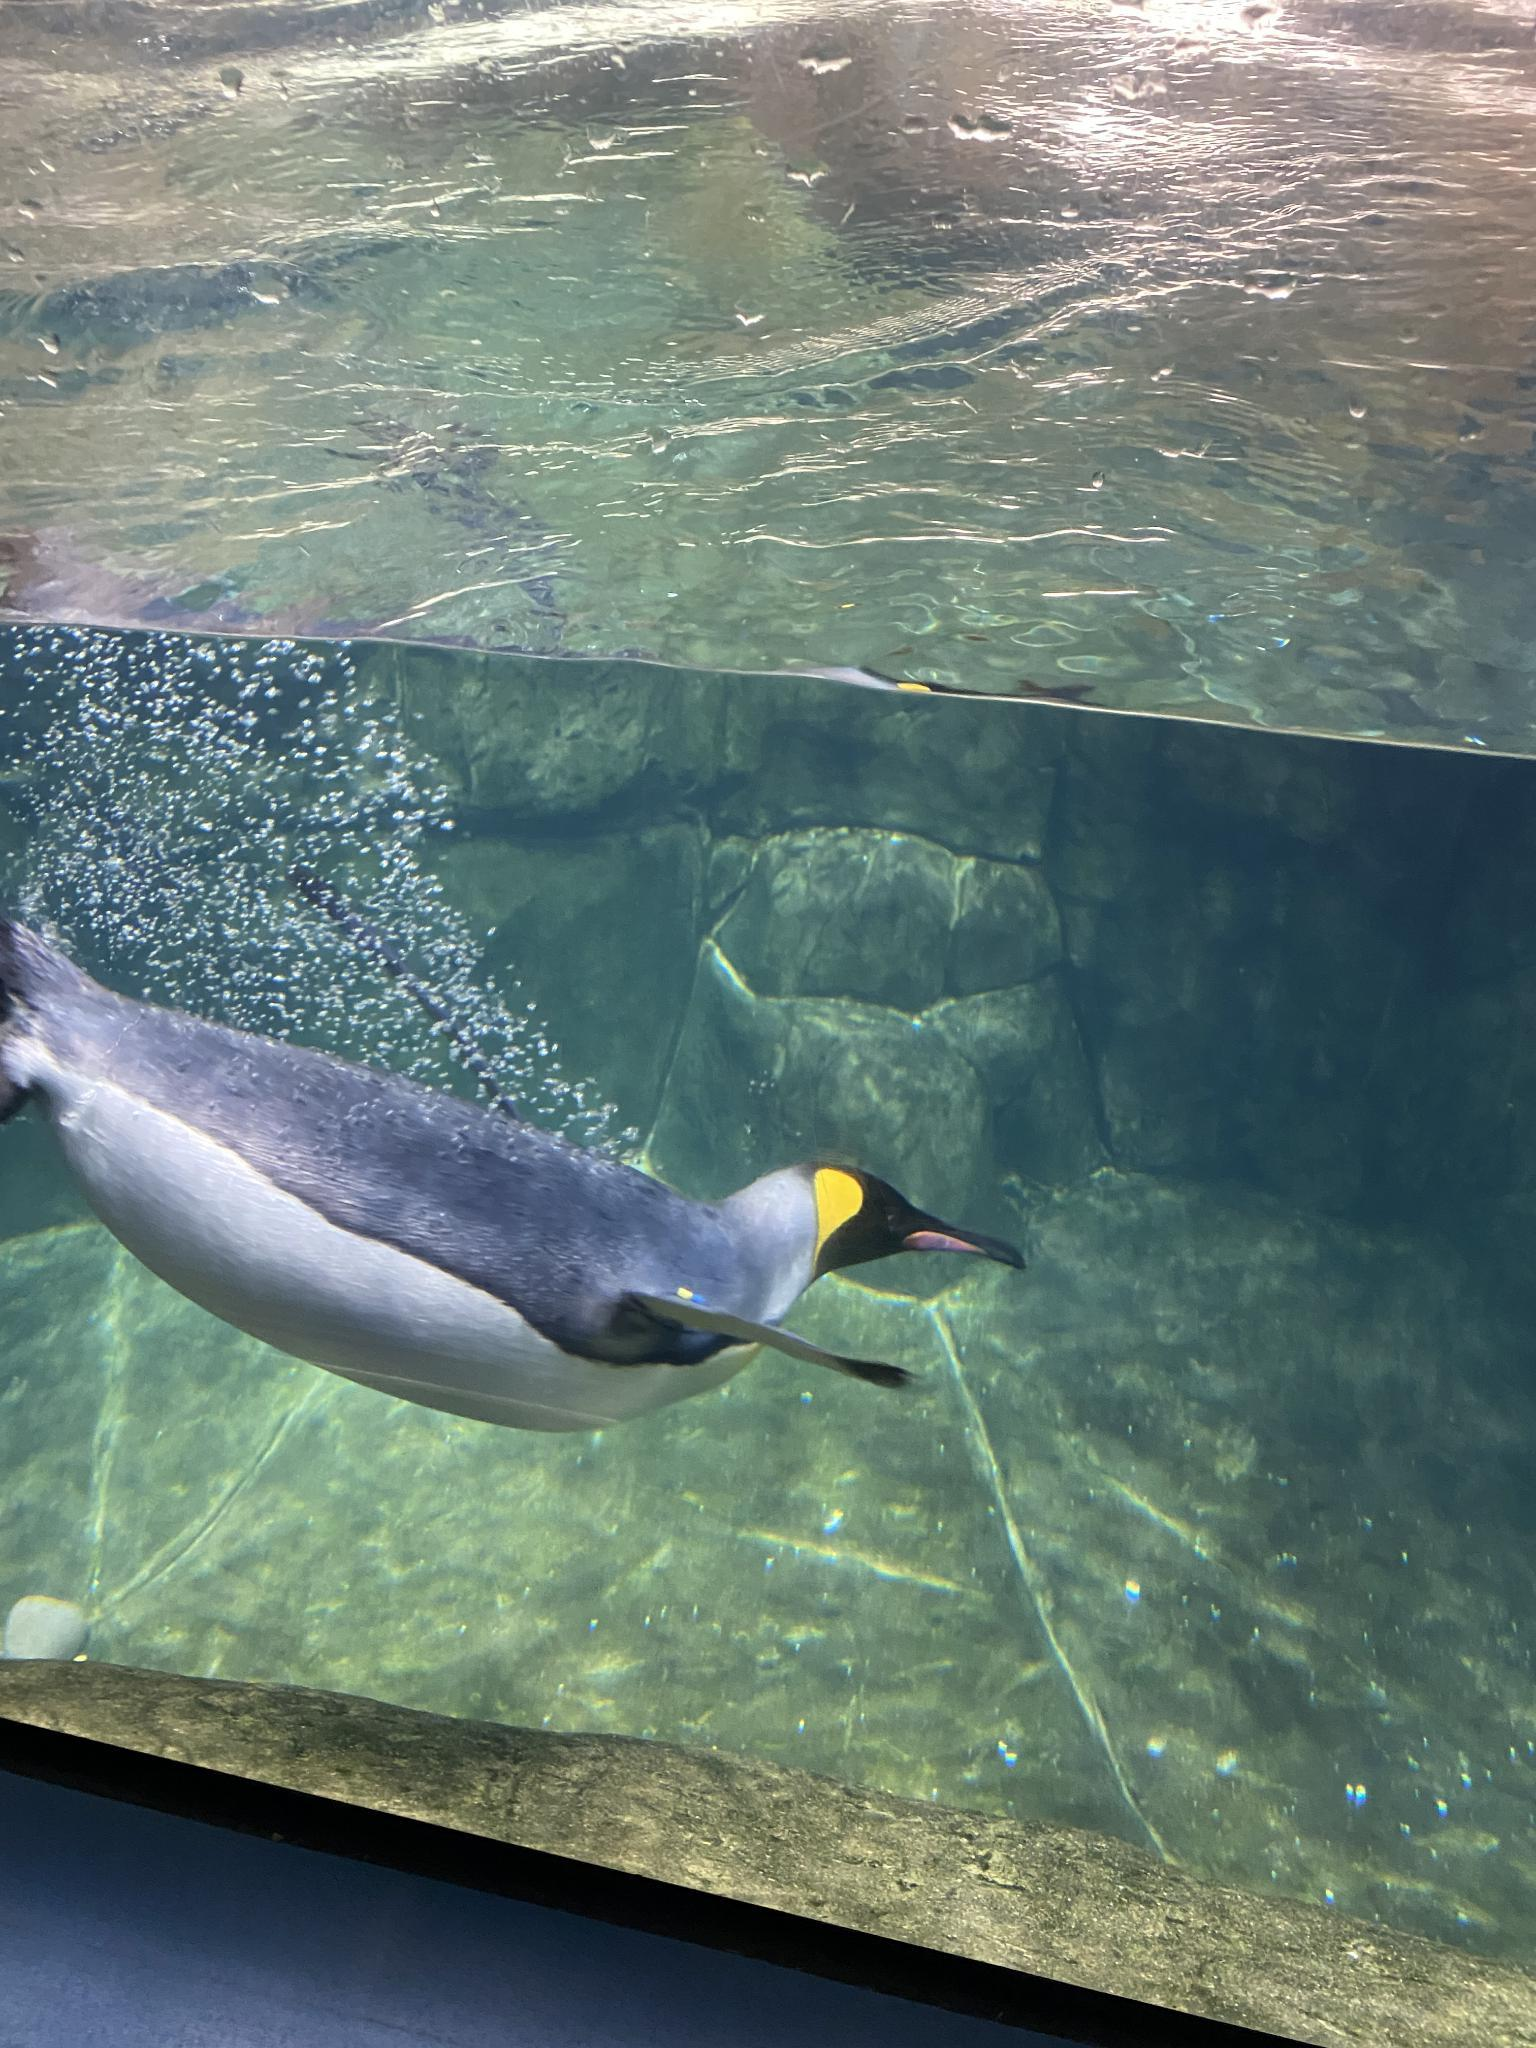penguin: (0, 922, 1025, 1438)
